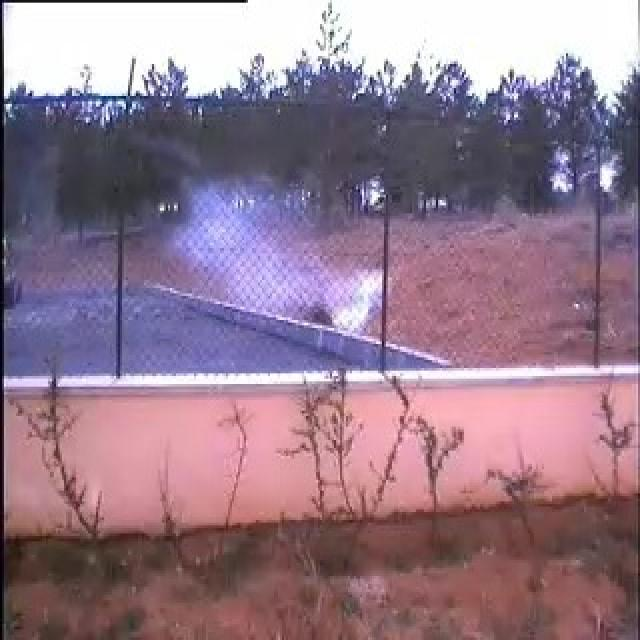smoke: (98, 164, 384, 378)
